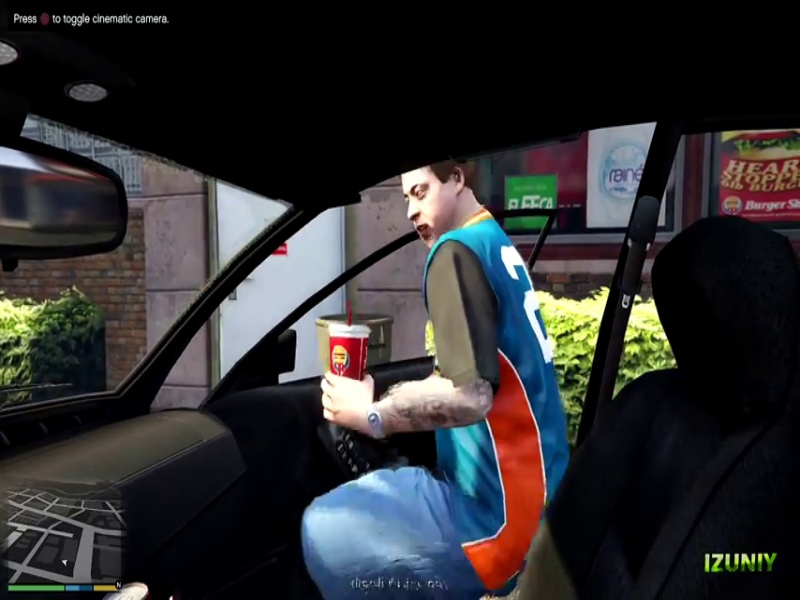human: (479, 217, 800, 600)
